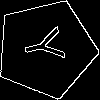Y: (21, 23, 75, 67)
